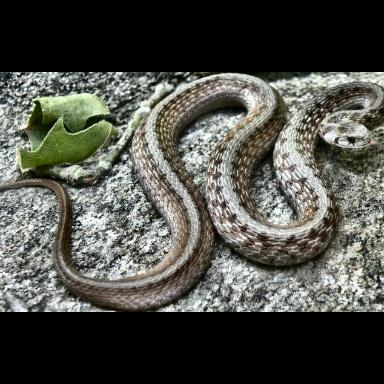snake: (0, 69, 384, 308)
